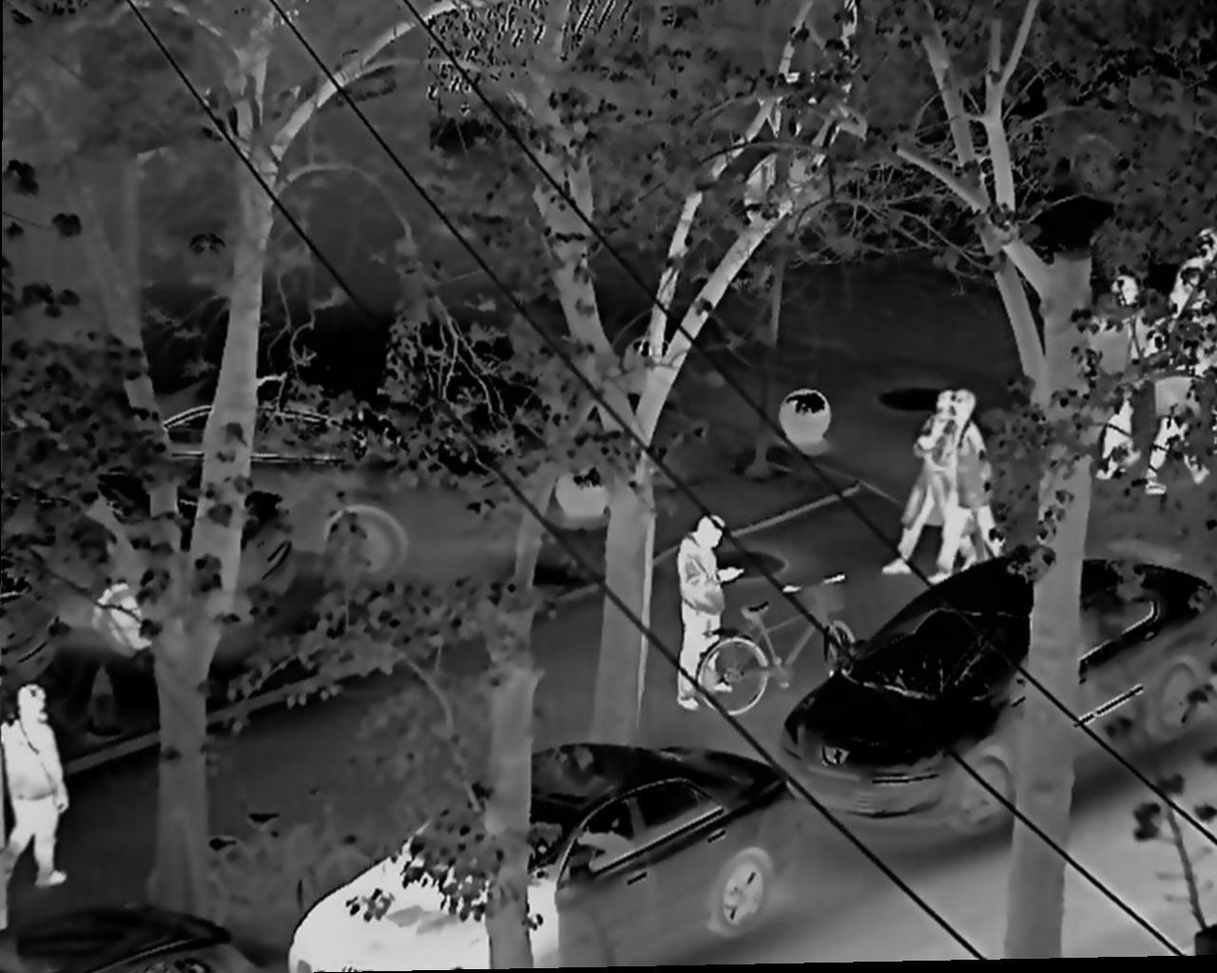person: (674, 509, 748, 711), (1143, 292, 1210, 493), (939, 387, 1005, 583), (890, 388, 956, 571), (1091, 277, 1139, 473), (1169, 225, 1217, 386)
